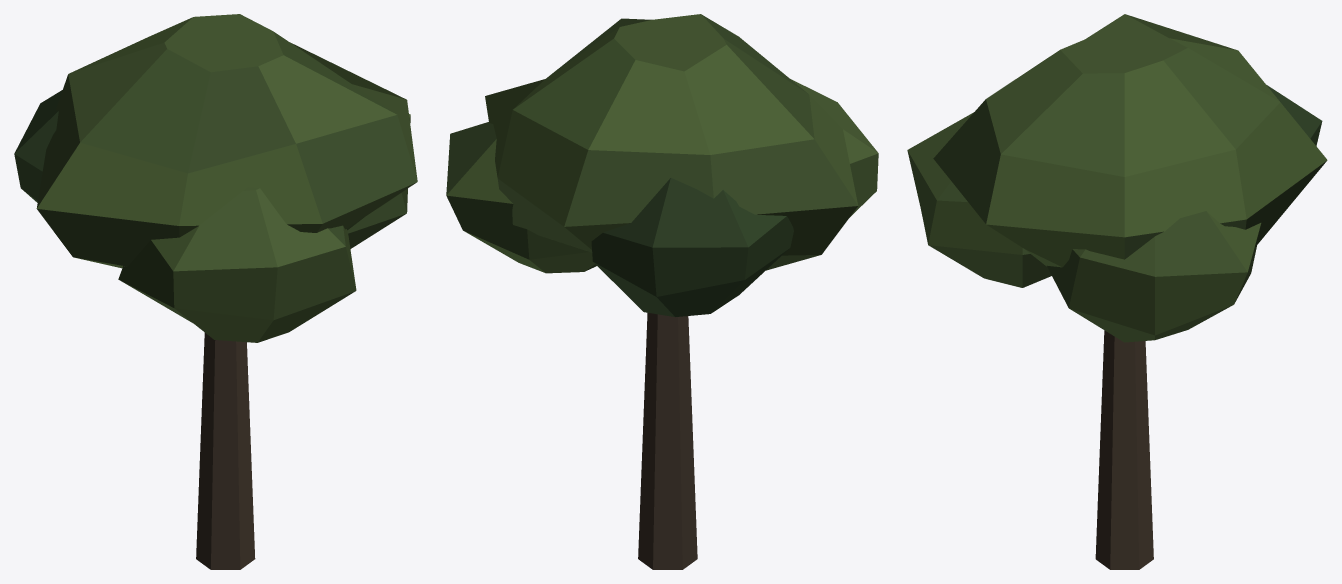
The model's file is broadleaf.glb.
The picture shows the model from 3 angles, left to right: view 1: azimuth 30°, elevation 25°; view 2: azimuth 150°, elevation 25°; view 3: azimuth 270°, elevation 25°; orthographic projection. The views are drawn at different scales.
Parts seen in each view (by area): view 1: broadleaf; view 2: broadleaf; view 3: broadleaf.
Boxes of the visible parts, x1=… form: broadleaf: x1=14, y1=14, x2=417, y2=569; broadleaf: x1=446, y1=14, x2=878, y2=569; broadleaf: x1=907, y1=14, x2=1327, y2=569.
Size of the model in its own units: 5.78 by 7.44 by 5.48.
Materials: 1 (1 with a texture image).
